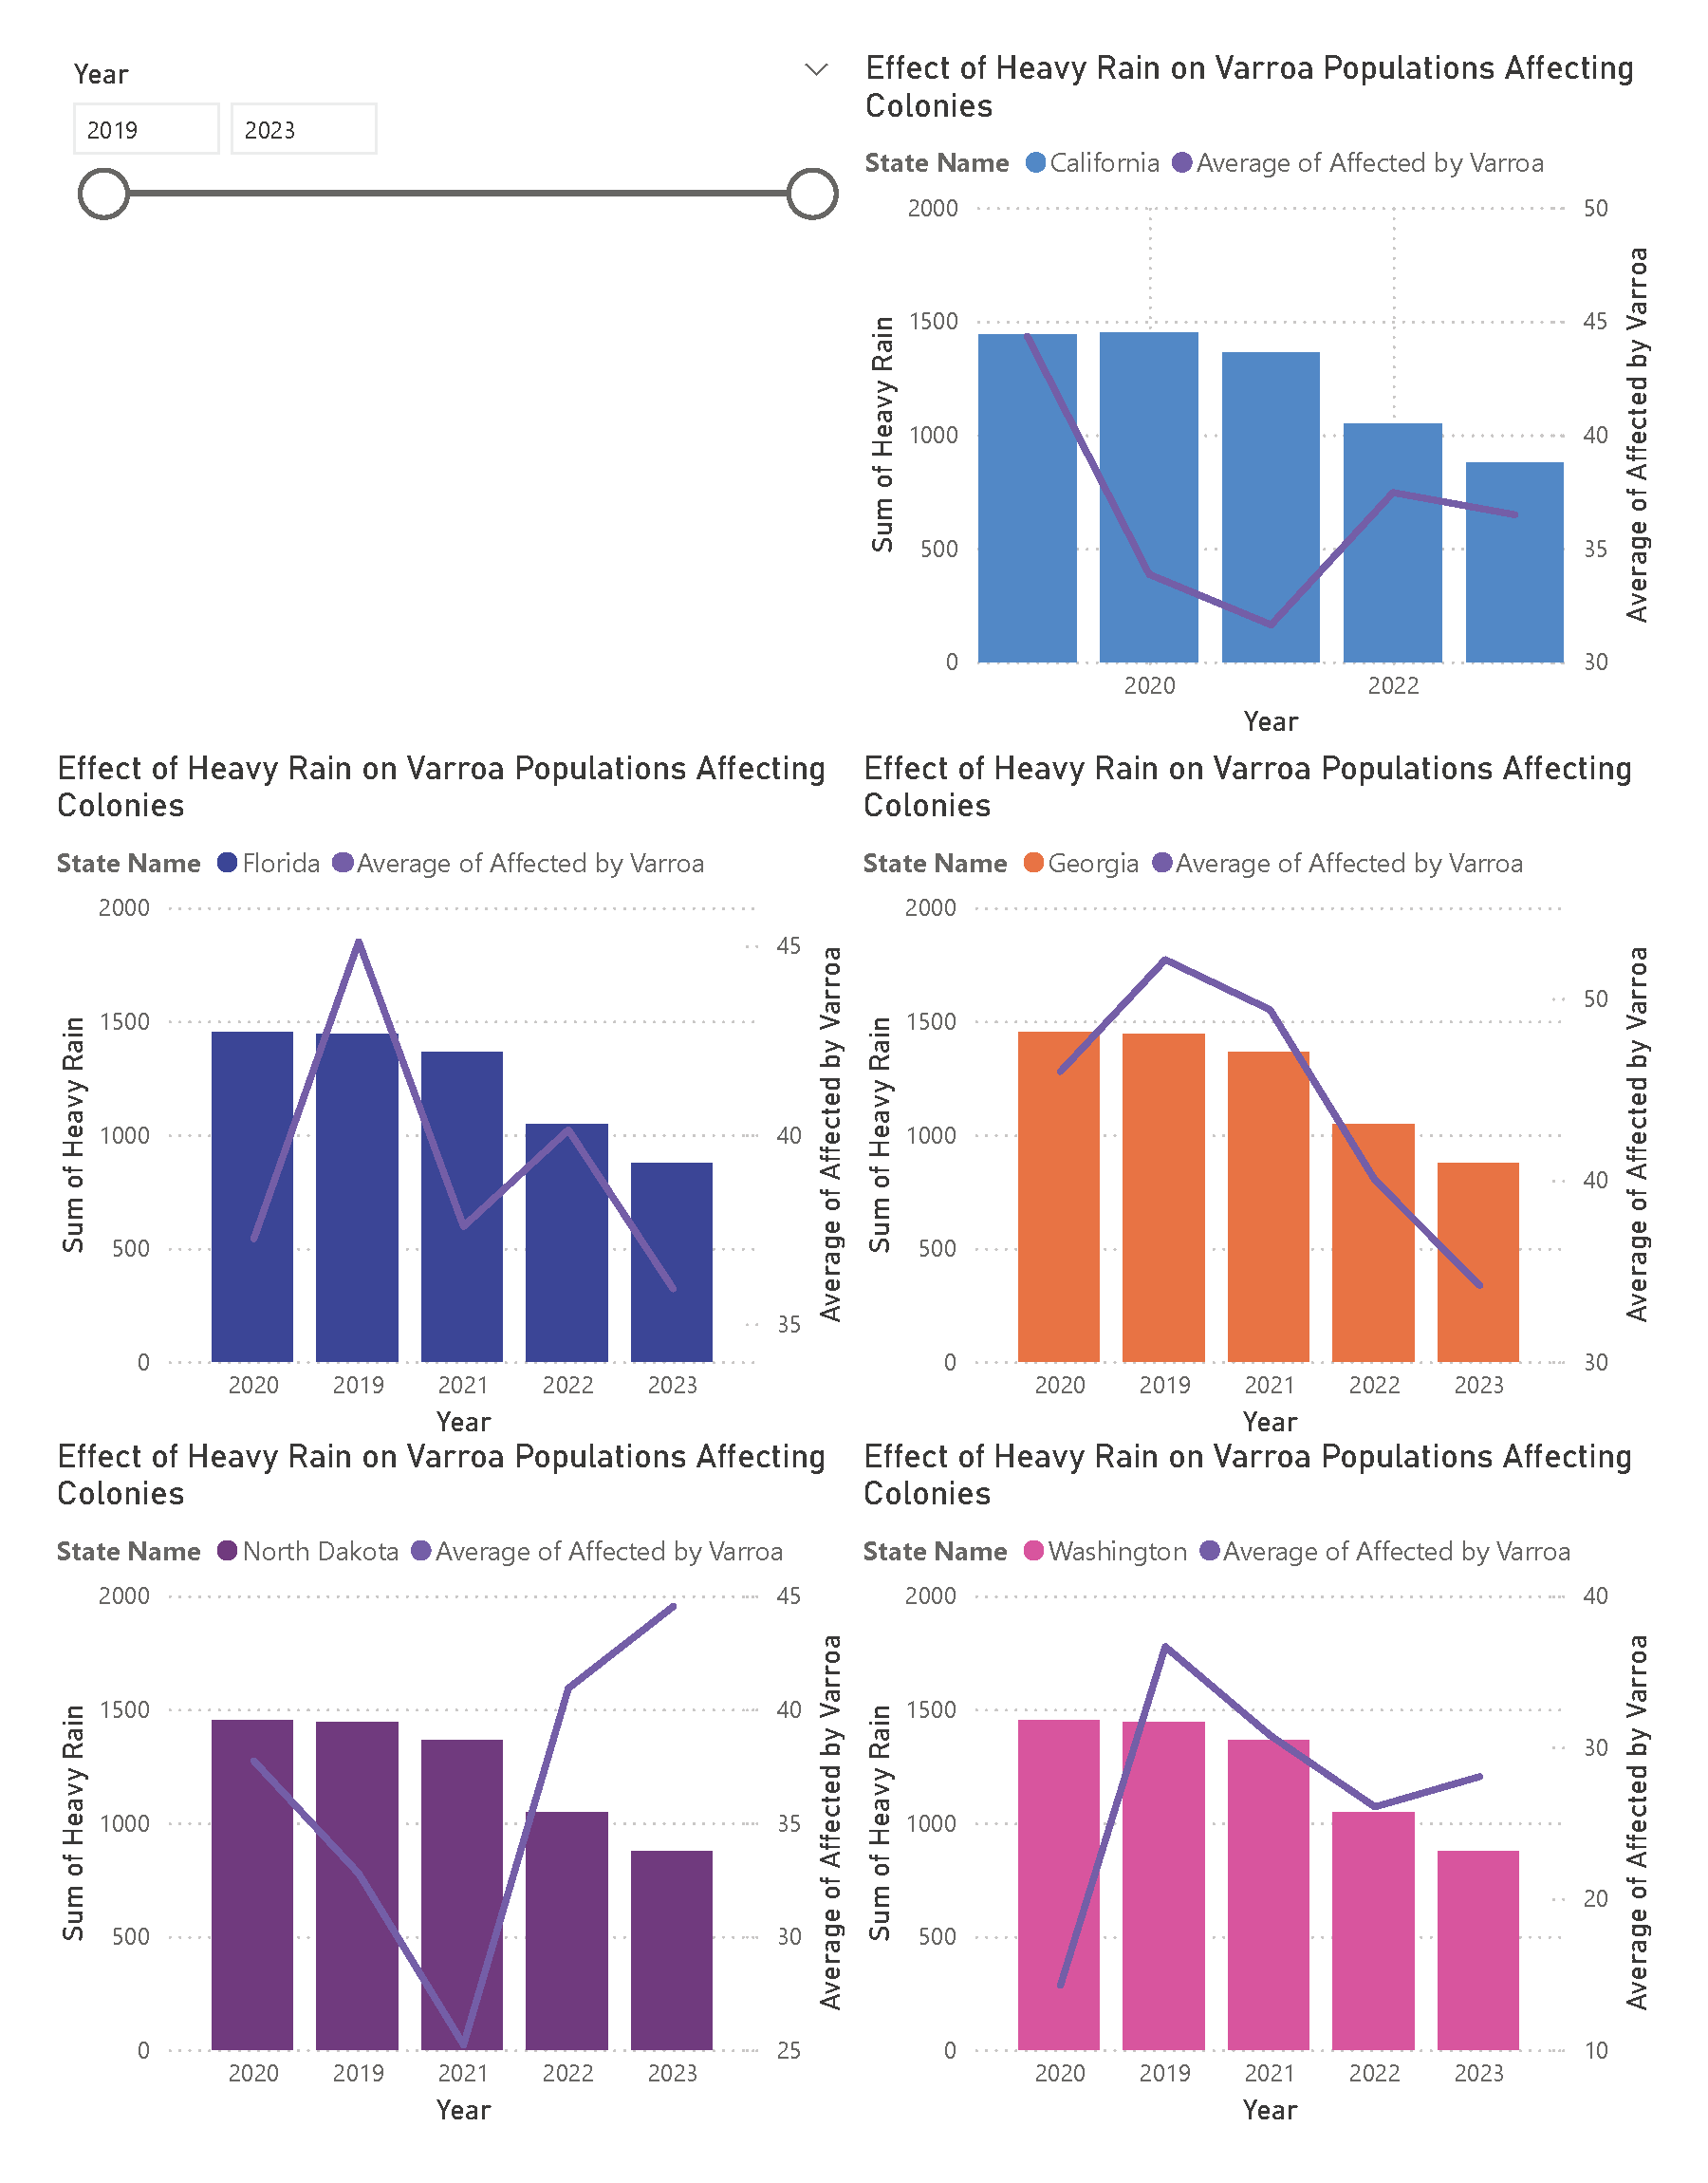

The page's visual inventory and layout, read from the dashboard file:
{"tool":"powerbi","page":{"name":"Varroa & Heavy Rain","canvas":[816,1056],"ordinal":1},"visuals":[{"type":"lineClusteredColumnComboChart","title":"Effect of Heavy Rain on Varroa Populations Affecting Colonies","fields":{"Category":["honey data.Year"],"Series":["honey data.State Name"],"Y":["Sum(storm_events_by_state_year.Heavy Rain)"],"Y2":["Avg(honey data.Affected by Varroa)"]},"box":[408.6,0,407.1,354.3],"z":0},{"type":"lineClusteredColumnComboChart","title":"Effect of Heavy Rain on Varroa Populations Affecting Colonies","fields":{"Category":["honey data.Year"],"Series":["honey data.State Name"],"Y":["Sum(storm_events_by_state_year.Heavy Rain)"],"Y2":["Avg(honey data.Affected by Varroa)"]},"box":[0,354,408,354],"z":1000},{"type":"lineClusteredColumnComboChart","title":"Effect of Heavy Rain on Varroa Populations Affecting Colonies","fields":{"Category":["honey data.Year"],"Series":["honey data.State Name"],"Y":["Sum(storm_events_by_state_year.Heavy Rain)"],"Y2":["Avg(honey data.Affected by Varroa)"]},"box":[408,354,408,354],"z":2000},{"type":"lineClusteredColumnComboChart","title":"Effect of Heavy Rain on Varroa Populations Affecting Colonies","fields":{"Category":["honey data.Year"],"Series":["honey data.State Name"],"Y2":["Avg(honey data.Affected by Varroa)"],"Y":["Sum(storm_events_by_state_year.Heavy Rain)"]},"box":[0,702,408,354],"z":3000},{"type":"lineClusteredColumnComboChart","title":"Effect of Heavy Rain on Varroa Populations Affecting Colonies","fields":{"Category":["honey data.Year"],"Series":["honey data.State Name"],"Y":["Sum(storm_events_by_state_year.Heavy Rain)"],"Y2":["Avg(honey data.Affected by Varroa)"]},"box":[408,702,408,354],"z":4000},{"type":"slicer","fields":{"Values":["honey data.Year"]},"box":[0,0,408,354],"z":5000}]}

Visuals, with their boxes on the page's 816x1056 design canvas (x1, y1, x2, y2). These are canvas units, not pixel positions in the 1708x2183 screenshot, which may show the page scaled, cropped or inside an application window:
"Effect of Heavy Rain on Varroa Populations Affecting Colonies" lineClusteredColumnComboChart: select_region(409, 0, 816, 354)
"Effect of Heavy Rain on Varroa Populations Affecting Colonies" lineClusteredColumnComboChart: select_region(0, 354, 408, 708)
"Effect of Heavy Rain on Varroa Populations Affecting Colonies" lineClusteredColumnComboChart: select_region(408, 354, 816, 708)
"Effect of Heavy Rain on Varroa Populations Affecting Colonies" lineClusteredColumnComboChart: select_region(0, 702, 408, 1056)
"Effect of Heavy Rain on Varroa Populations Affecting Colonies" lineClusteredColumnComboChart: select_region(408, 702, 816, 1056)
slicer - honey data.Year: select_region(0, 0, 408, 354)
